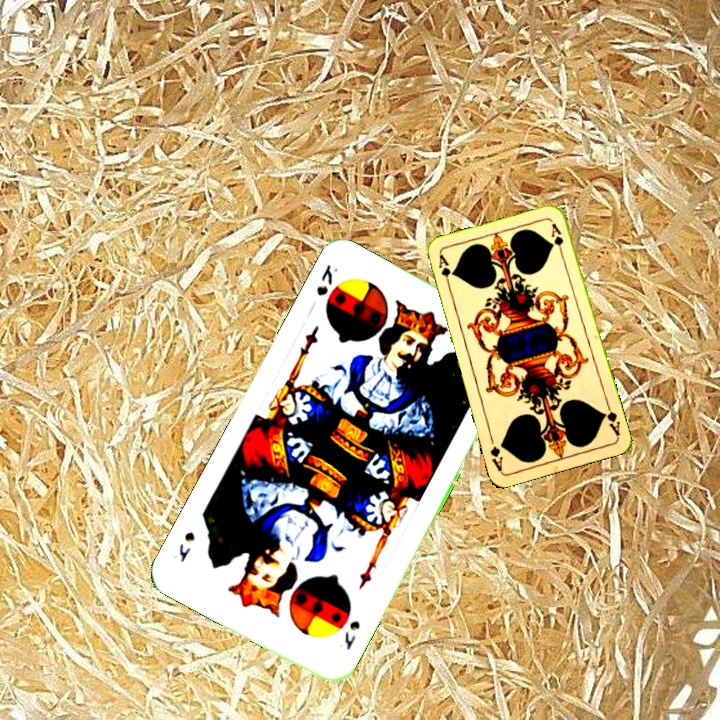GA: (599, 399, 623, 439), (434, 250, 454, 291)
SK: (312, 260, 341, 299), (340, 616, 363, 653)
